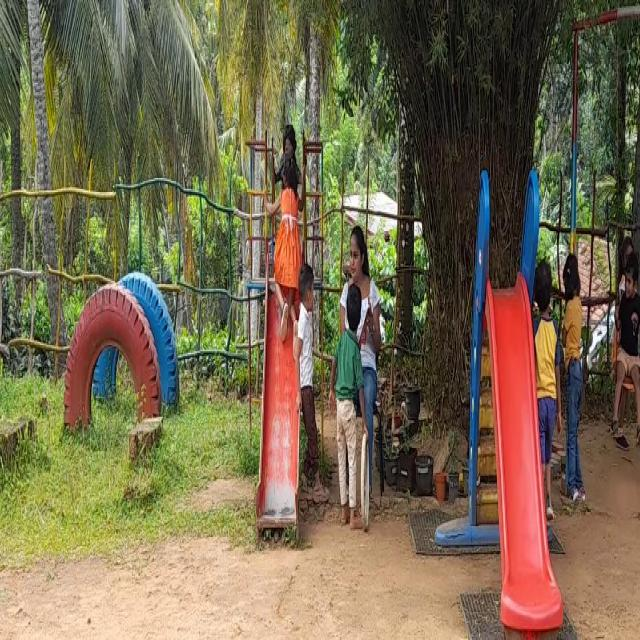child: (529, 255, 560, 519), (296, 273, 326, 514), (560, 255, 588, 500), (610, 243, 640, 459), (274, 152, 298, 338)
